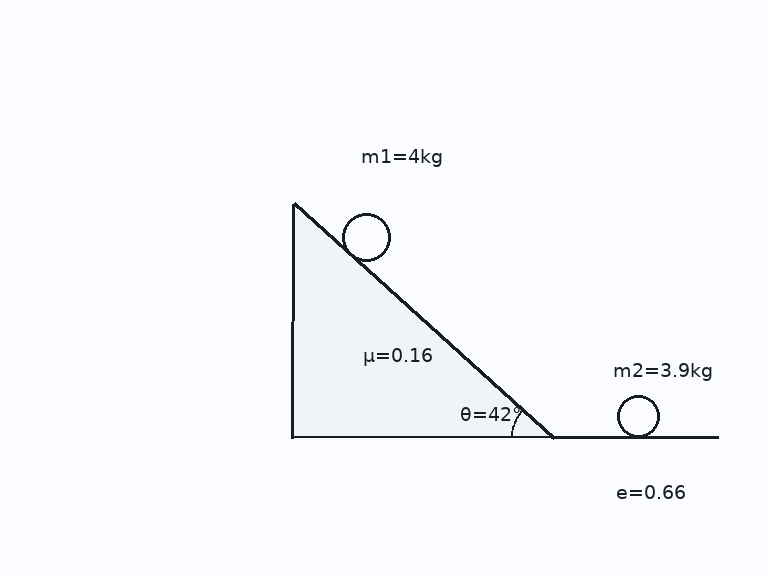ball: (340, 211, 392, 263), (615, 393, 661, 439)
ramp: (291, 201, 554, 439)
